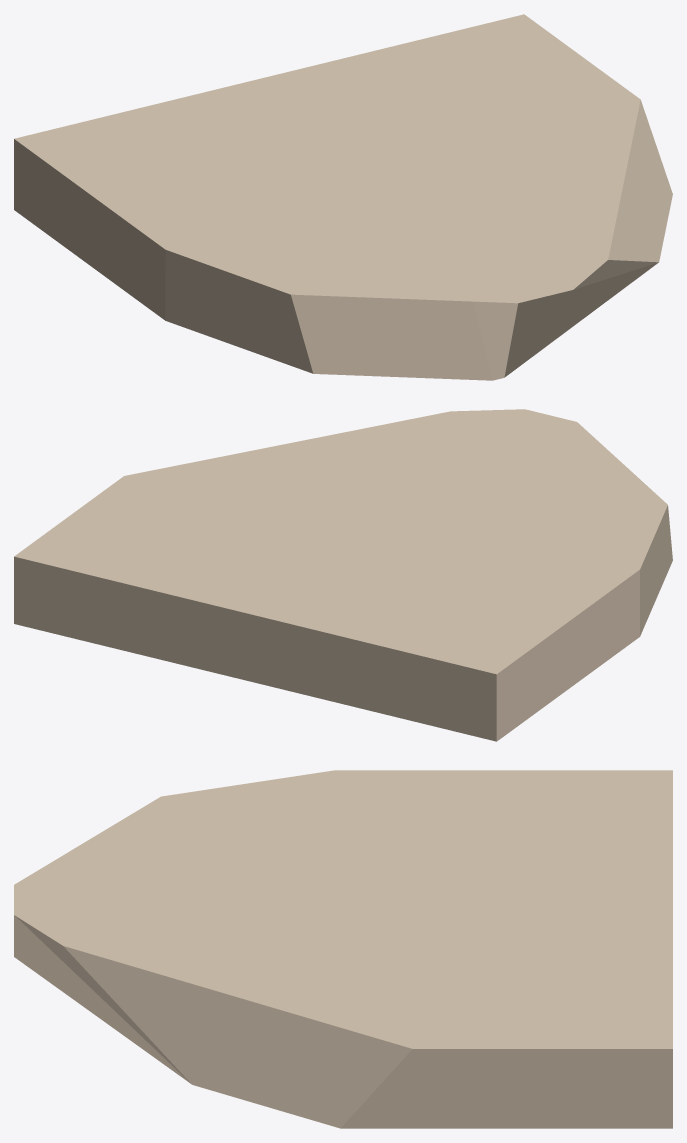
Rendered from Broken_Ceiling_001.fbx.
3 views of the same model, one above another, from view 1: azimuth 30°, elevation 25°; view 2: azimuth 150°, elevation 25°; view 3: azimuth 270°, elevation 25° (orthographic). The views are drawn at different scales.
Parts seen in each view (by area): view 1: Broken_Ceiling_001; view 2: Broken_Ceiling_001; view 3: Broken_Ceiling_001.
Part boxes in pixels (x1,y1,x2,y2): Broken_Ceiling_001: (14,14,672,380); Broken_Ceiling_001: (14,409,672,741); Broken_Ceiling_001: (14,770,672,1128).
Size of the model in its own units: 3 by 0.4 by 3.
